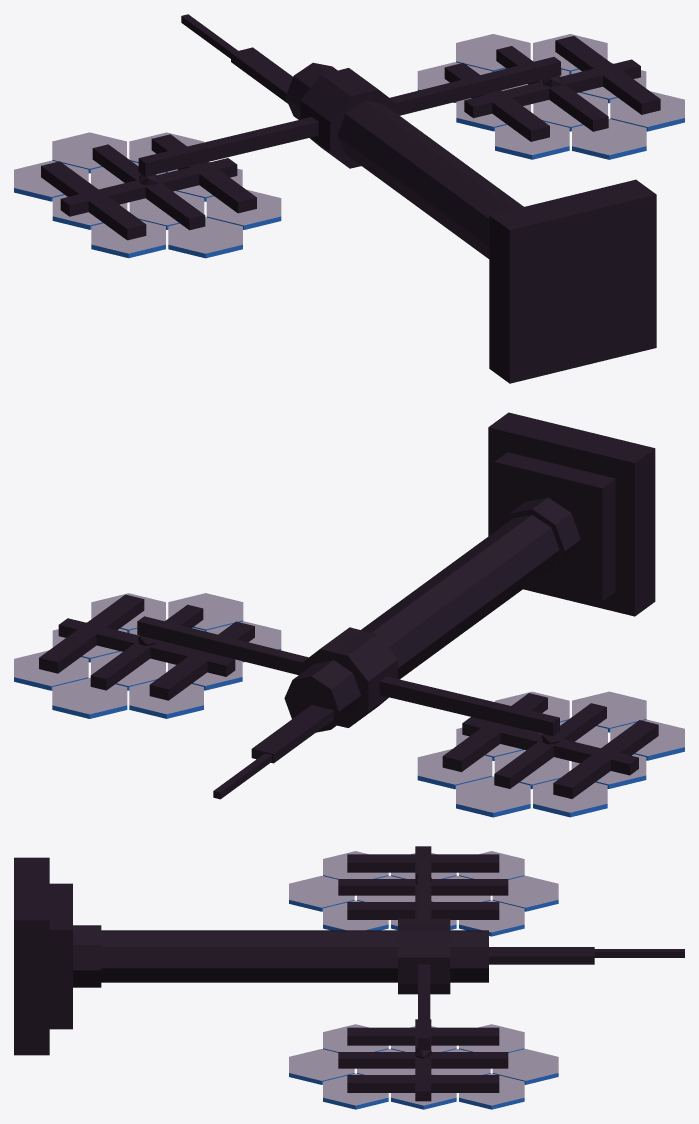
File: low-poly-antenna-2.fbx
3 renders of one model, top to bottom at view 1: azimuth 30°, elevation 25°; view 2: azimuth 150°, elevation 25°; view 3: azimuth 270°, elevation 25°, orthographic. The views are drawn at different scales.
Parts seen in each view (by area): view 1: stand, panel.R, panel.L, rotator; view 2: stand, panel.R, panel.L, rotator; view 3: stand, panel.L, panel.R, rotator.
Boxes of the visible parts, x1=… form: stand: x1=181, y1=14, x2=656, y2=383; panel.R: x1=14, y1=132, x2=281, y2=258; panel.L: x1=417, y1=34, x2=684, y2=159; rotator: x1=138, y1=57, x2=561, y2=176; stand: x1=213, y1=412, x2=655, y2=799; panel.R: x1=417, y1=691, x2=684, y2=817; panel.L: x1=14, y1=593, x2=281, y2=718; rotator: x1=137, y1=616, x2=559, y2=736; stand: x1=14, y1=857, x2=684, y2=1055; panel.L: x1=289, y1=1019, x2=558, y2=1109; panel.R: x1=289, y1=846, x2=558, y2=936; rotator: x1=398, y1=860, x2=450, y2=1050.
Bounding box in the file's own units: 809 × 200 × 901.
Materials: 1 (1 with a texture image).
